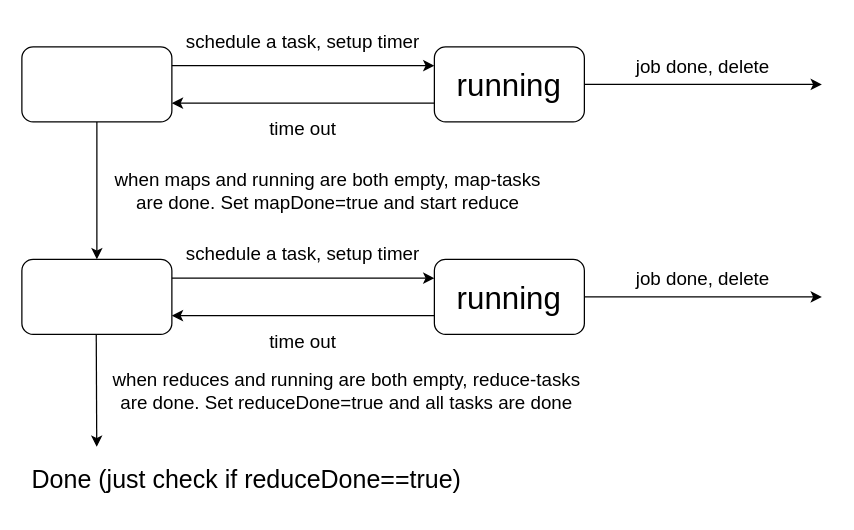
Image size: 854x530. Some labels were removed from this diagram. Here are the shapes that lost their labels. From the top down, the box of each, then its label:
(21, 46, 172, 122): maps
(21, 258, 172, 334): reduces
